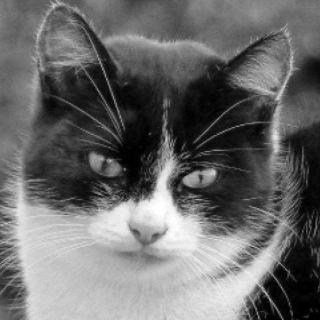cat: (25, 0, 305, 299)
nose: (123, 201, 174, 250)
